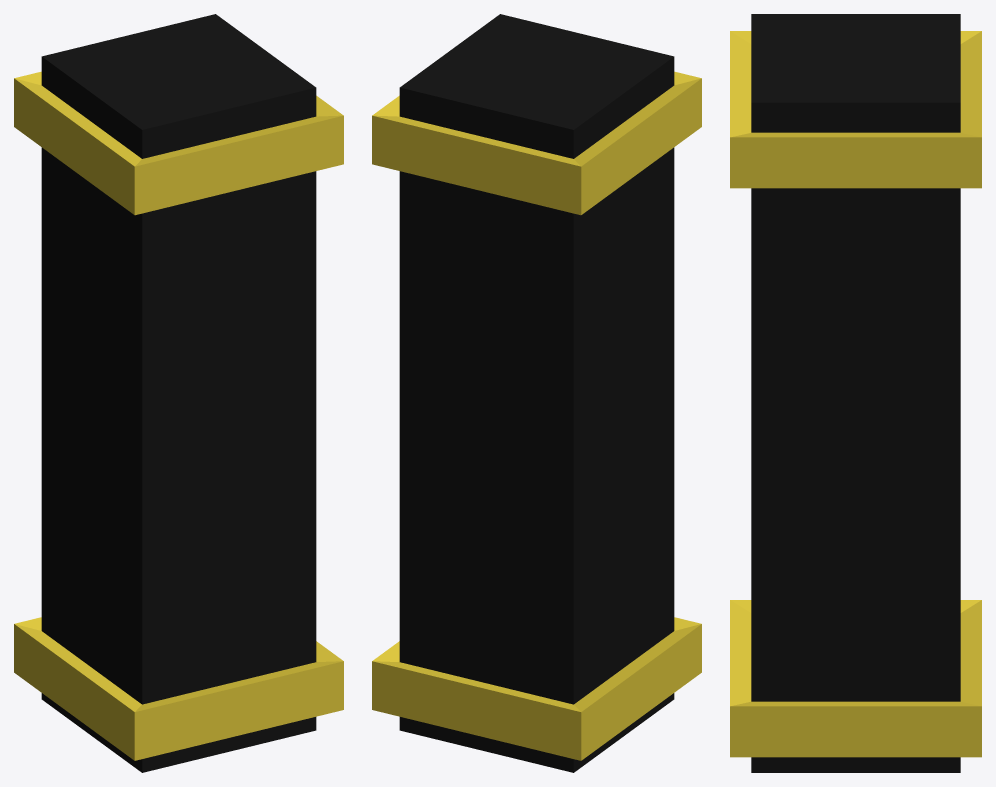
Rendered from Building1.fbx.
3 renders of one model, left to right at view 1: azimuth 30°, elevation 25°; view 2: azimuth 150°, elevation 25°; view 3: azimuth 270°, elevation 25°, orthographic. The views are drawn at different scales.
Visible parts, largest first — view 1: Cube.002; view 2: Cube.002; view 3: Cube.002.
Part boxes in pixels (x1,y1,x2,y2): Cube.002: (14, 14, 343, 772); Cube.002: (372, 14, 701, 772); Cube.002: (730, 14, 981, 772).
Size of the model in its own units: 2661 by 2661 by 7819.
